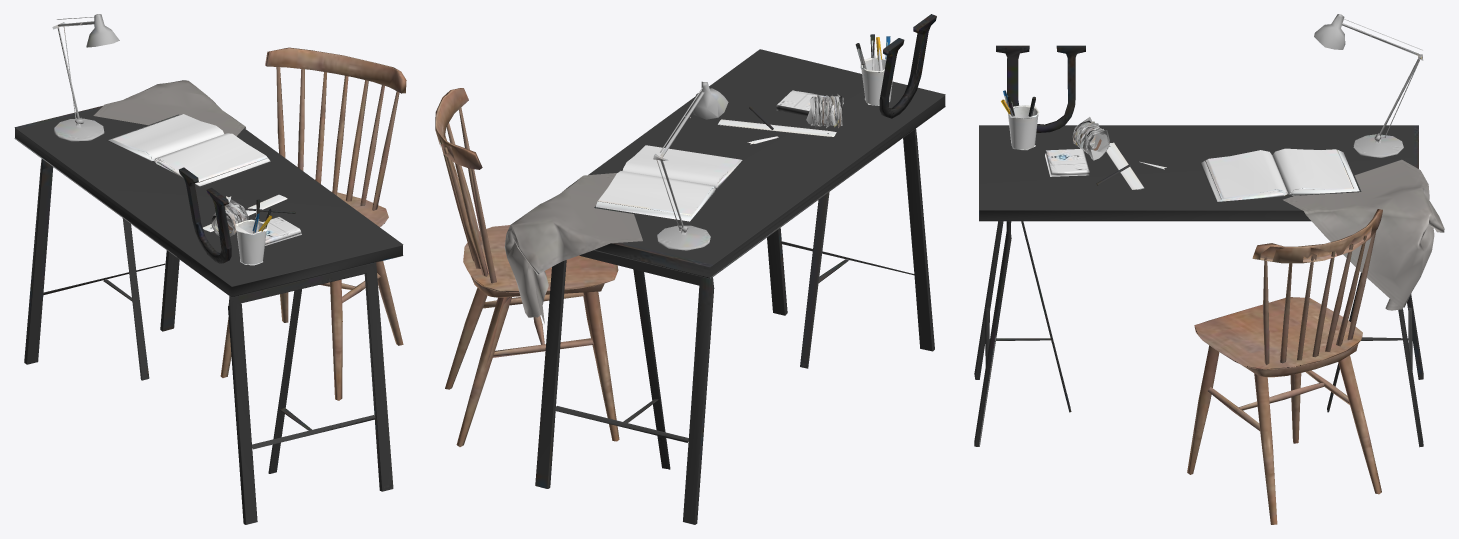
Rendered from Desk0001.obj.
3 renders of one model, left to right at view 1: azimuth 30°, elevation 25°; view 2: azimuth 150°, elevation 25°; view 3: azimuth 270°, elevation 25°, orthographic. The views are drawn at different scales.
Bounding box in the file's own units: 1.02 × 1.15 × 1.3.
Materials: 1 (1 with a texture image).
